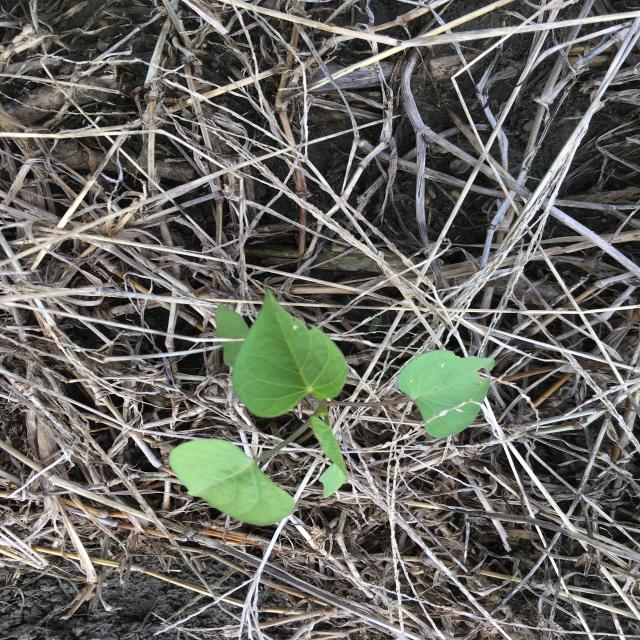MorningGlory: (165, 286, 498, 528)
